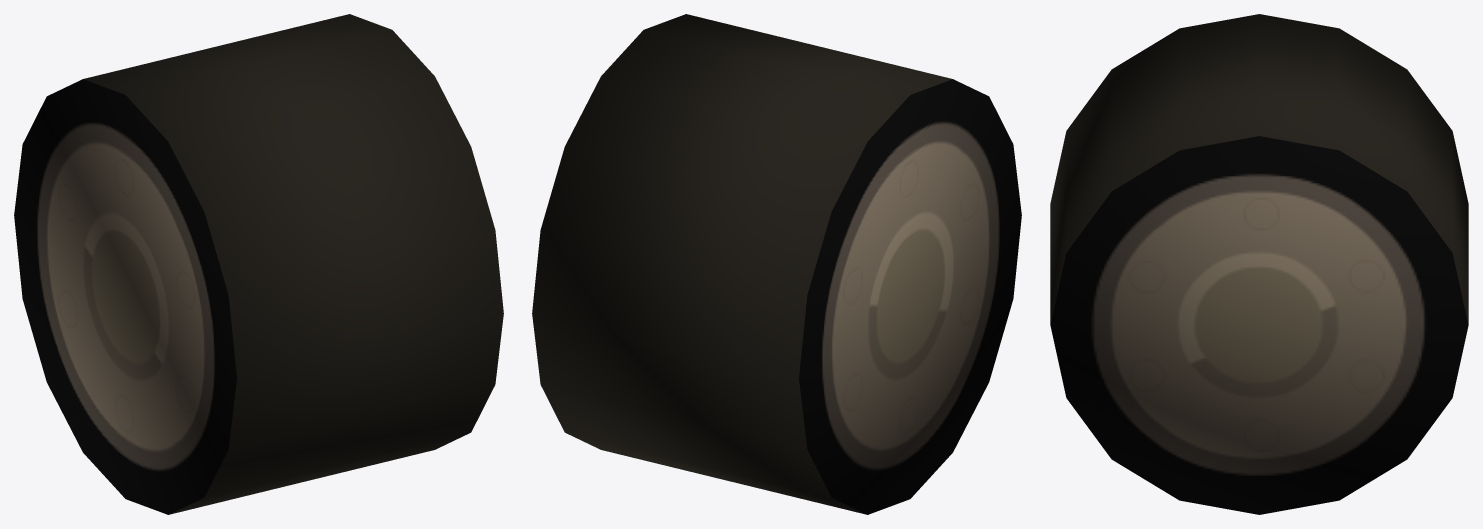
Rendered from Tank3_Small_Wheel.fbx.
3 renders of one model, left to right at view 1: azimuth 30°, elevation 25°; view 2: azimuth 150°, elevation 25°; view 3: azimuth 270°, elevation 25°, orthographic. The views are drawn at different scales.
Parts seen in each view (by area): view 1: small_wheel; view 2: small_wheel; view 3: small_wheel.
Boxes of the visible parts, x1,y1,x2,y2 form: small_wheel: (14, 14, 503, 514); small_wheel: (532, 14, 1021, 514); small_wheel: (1050, 14, 1468, 514).
Size of the model in its own units: 0.457 by 0.6615 by 0.6615.
